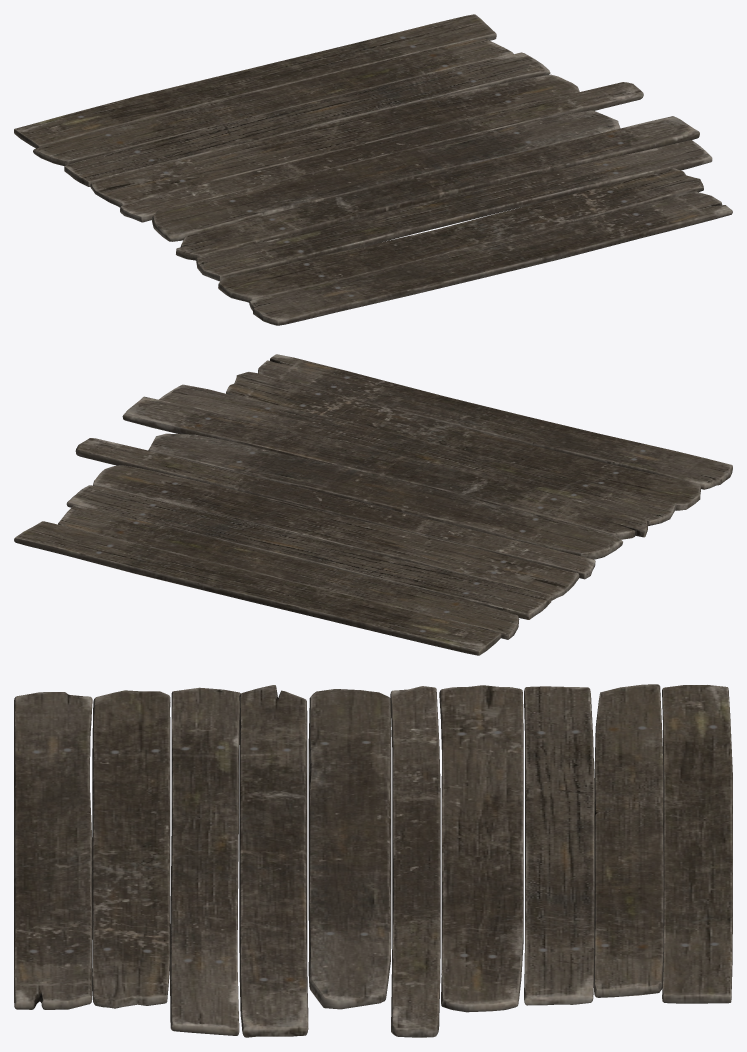
The model's file is boards.gltf.
The picture shows the model from 3 angles, top to bottom: view 1: azimuth 30°, elevation 25°; view 2: azimuth 150°, elevation 25°; view 3: azimuth 270°, elevation 25°; orthographic projection. The views are drawn at different scales.
Parts seen in each view (by area): view 1: modular_wooden_pier_planks; view 2: modular_wooden_pier_planks; view 3: modular_wooden_pier_planks.
Boxes of the visible parts, x1,y1,x2,y2 form: modular_wooden_pier_planks: (14,14,732,325); modular_wooden_pier_planks: (14,354,732,655); modular_wooden_pier_planks: (14,684,732,1037).
Bounding box in the file's own units: 2.52 × 0.0798 × 2.2.
Materials: 1 (1 with a texture image).
